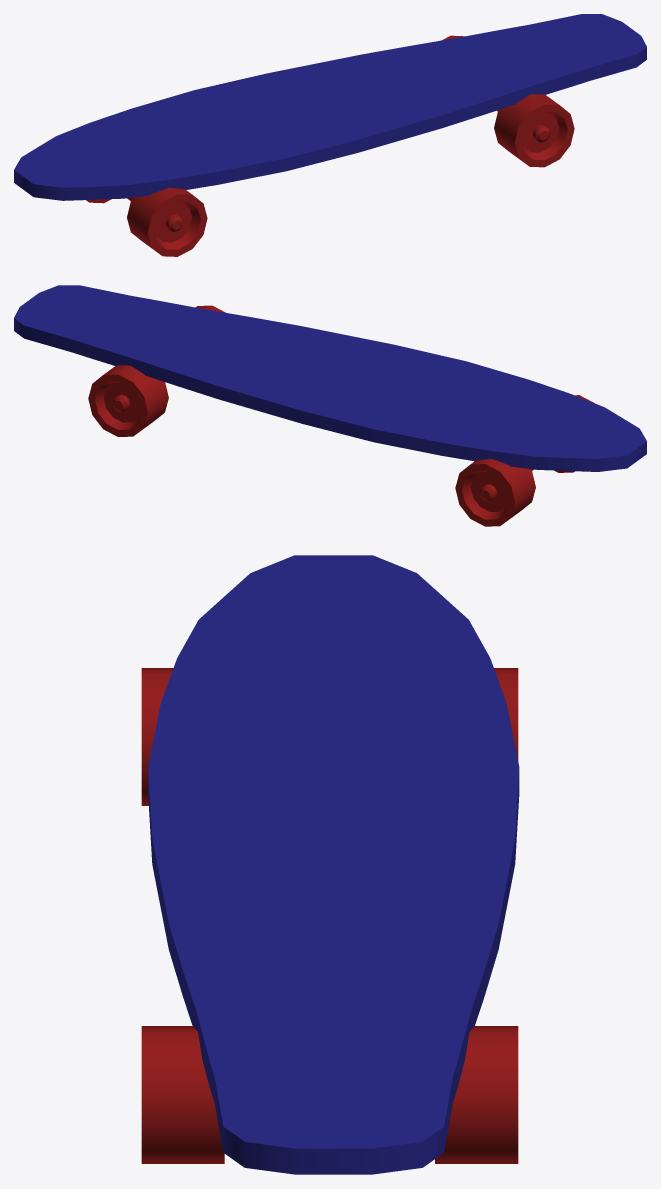
File: Skateboard.fbx
The picture shows the model from 3 angles, top to bottom: view 1: azimuth 30°, elevation 25°; view 2: azimuth 150°, elevation 25°; view 3: azimuth 270°, elevation 25°; orthographic projection. The views are drawn at different scales.
Visible parts, largest first — view 1: Skateboard; view 2: Skateboard; view 3: Skateboard.
Boxes of the visible parts, bbox=[...] form: Skateboard: bbox=[14, 14, 646, 256]; Skateboard: bbox=[14, 285, 646, 526]; Skateboard: bbox=[141, 555, 519, 1174].
Size of the model in its own units: 114 by 12.61 by 30.63.
